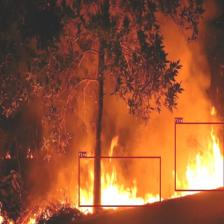fire: (78, 156, 160, 206), (174, 122, 224, 190)
